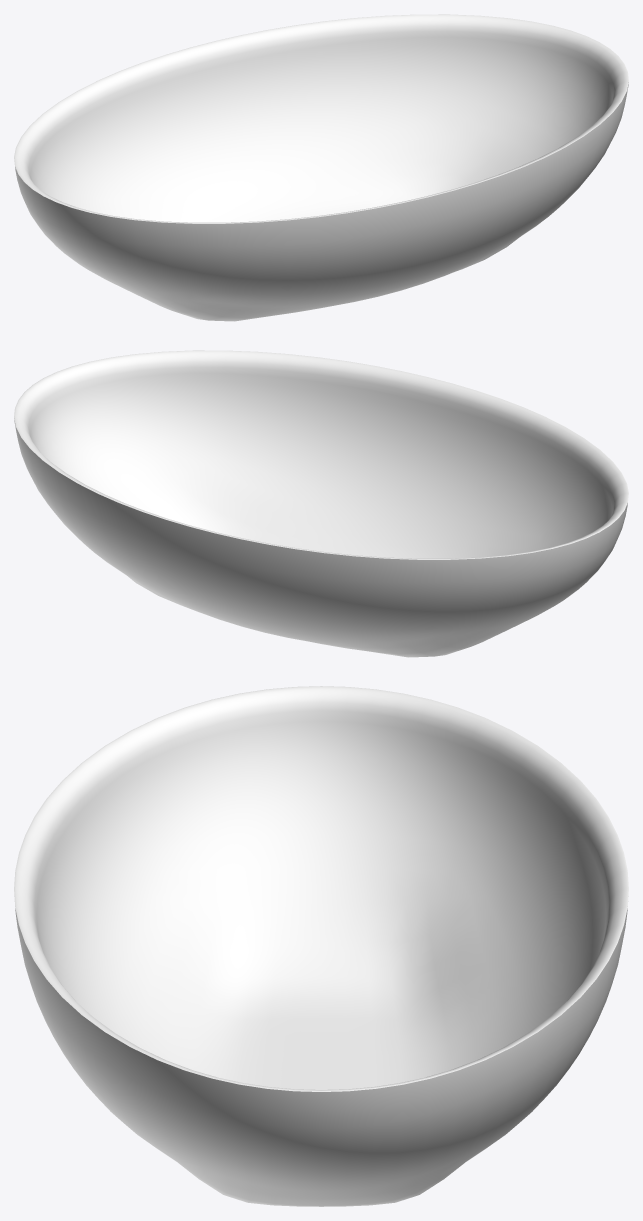
File: HP_platter.glb
3 renders of one model, top to bottom at view 1: azimuth 30°, elevation 25°; view 2: azimuth 150°, elevation 25°; view 3: azimuth 270°, elevation 25°, orthographic. The views are drawn at different scales.
Visible parts, largest first — view 1: HP_platter.001; view 2: HP_platter.001; view 3: HP_platter.001.
Part boxes in pixels (x1,y1,x2,y2): HP_platter.001: (14, 14, 628, 321); HP_platter.001: (14, 350, 628, 657); HP_platter.001: (14, 686, 628, 1206).
Size of the model in its own units: 0.2318 by 0.0583 by 0.1484.
1 material, 1 textured.
